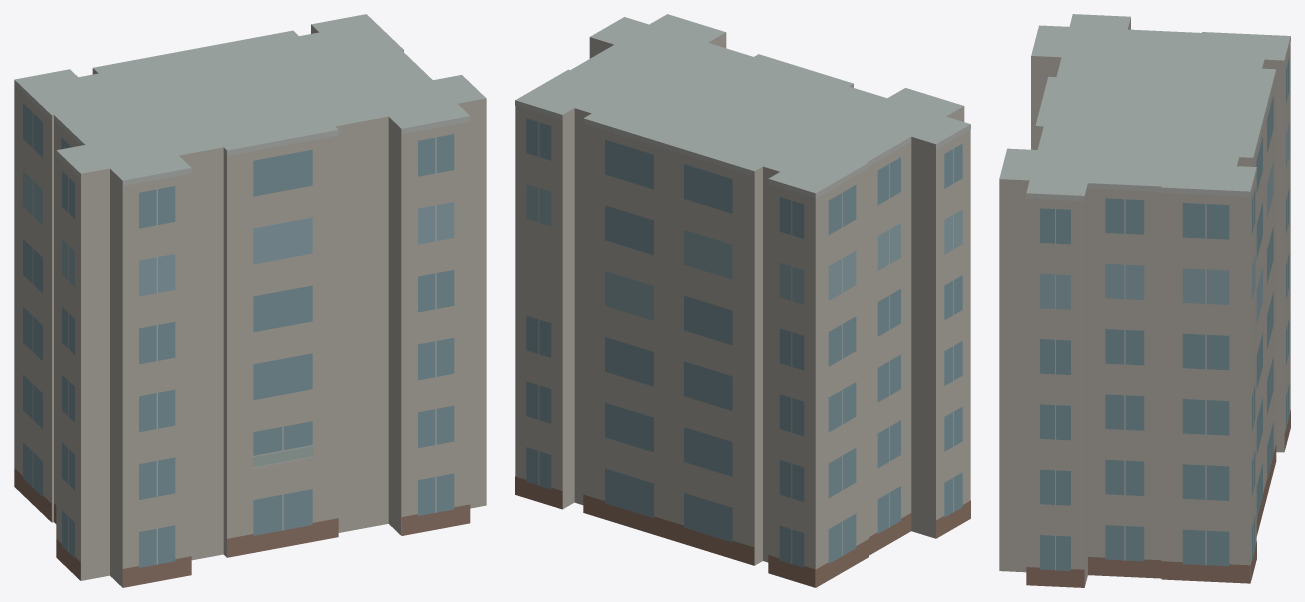
The model's file is survey-upis-32978060.glb.
The picture shows the model from 3 angles, left to right: view 1: azimuth 30°, elevation 25°; view 2: azimuth 150°, elevation 25°; view 3: azimuth 270°, elevation 25°; orthographic projection. The views are drawn at different scales.
Visible parts, largest first — view 1: survey-upis-32978060.tmp; view 2: survey-upis-32978060.tmp; view 3: survey-upis-32978060.tmp.
Part boxes in pixels (x1,y1,x2,y2): survey-upis-32978060.tmp: (14, 14, 486, 587); survey-upis-32978060.tmp: (515, 14, 970, 587); survey-upis-32978060.tmp: (999, 14, 1290, 587).
Size of the model in its own units: 18.23 by 18.3 by 12.35.
